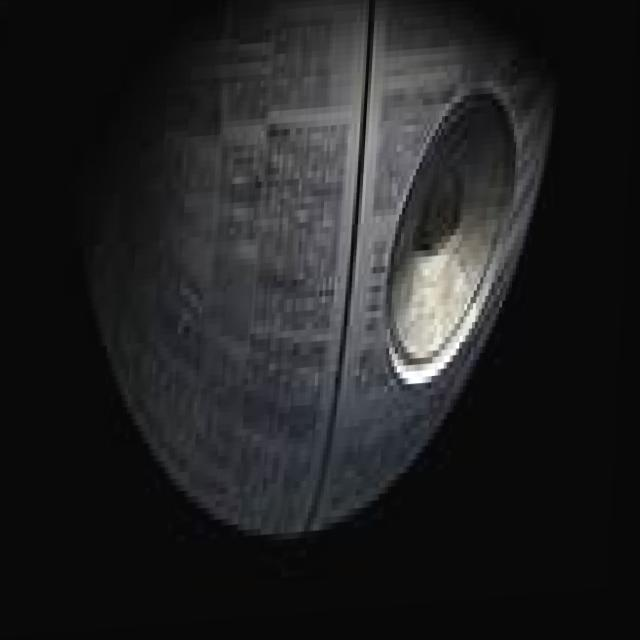deathStar: (29, 0, 563, 558)
